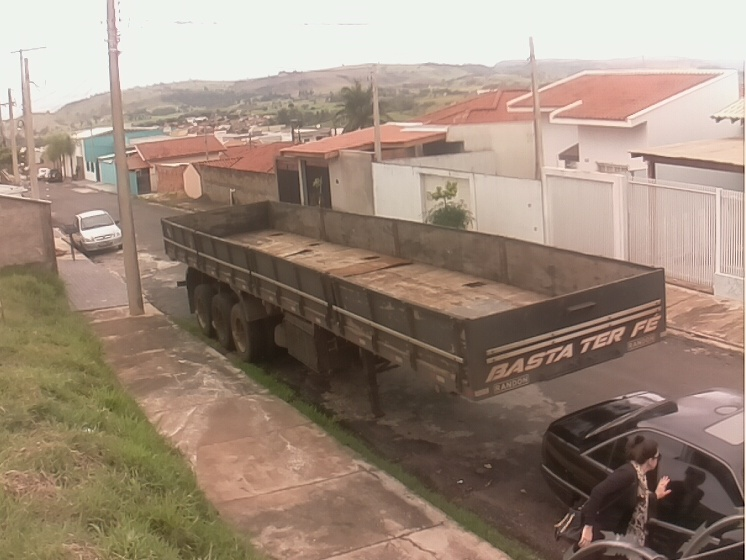person: (576, 434, 670, 560)
